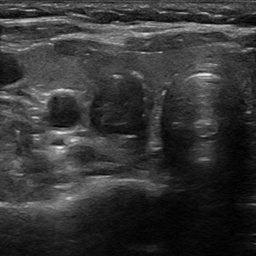mass: (87, 75, 149, 134)
